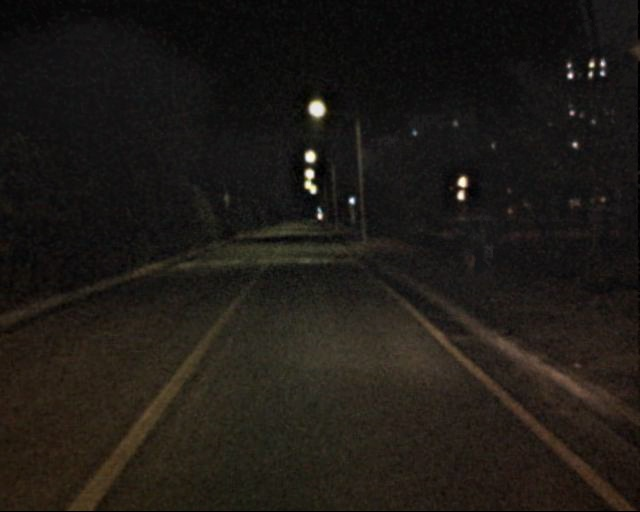person: (474, 210, 501, 277), (455, 213, 481, 276)
